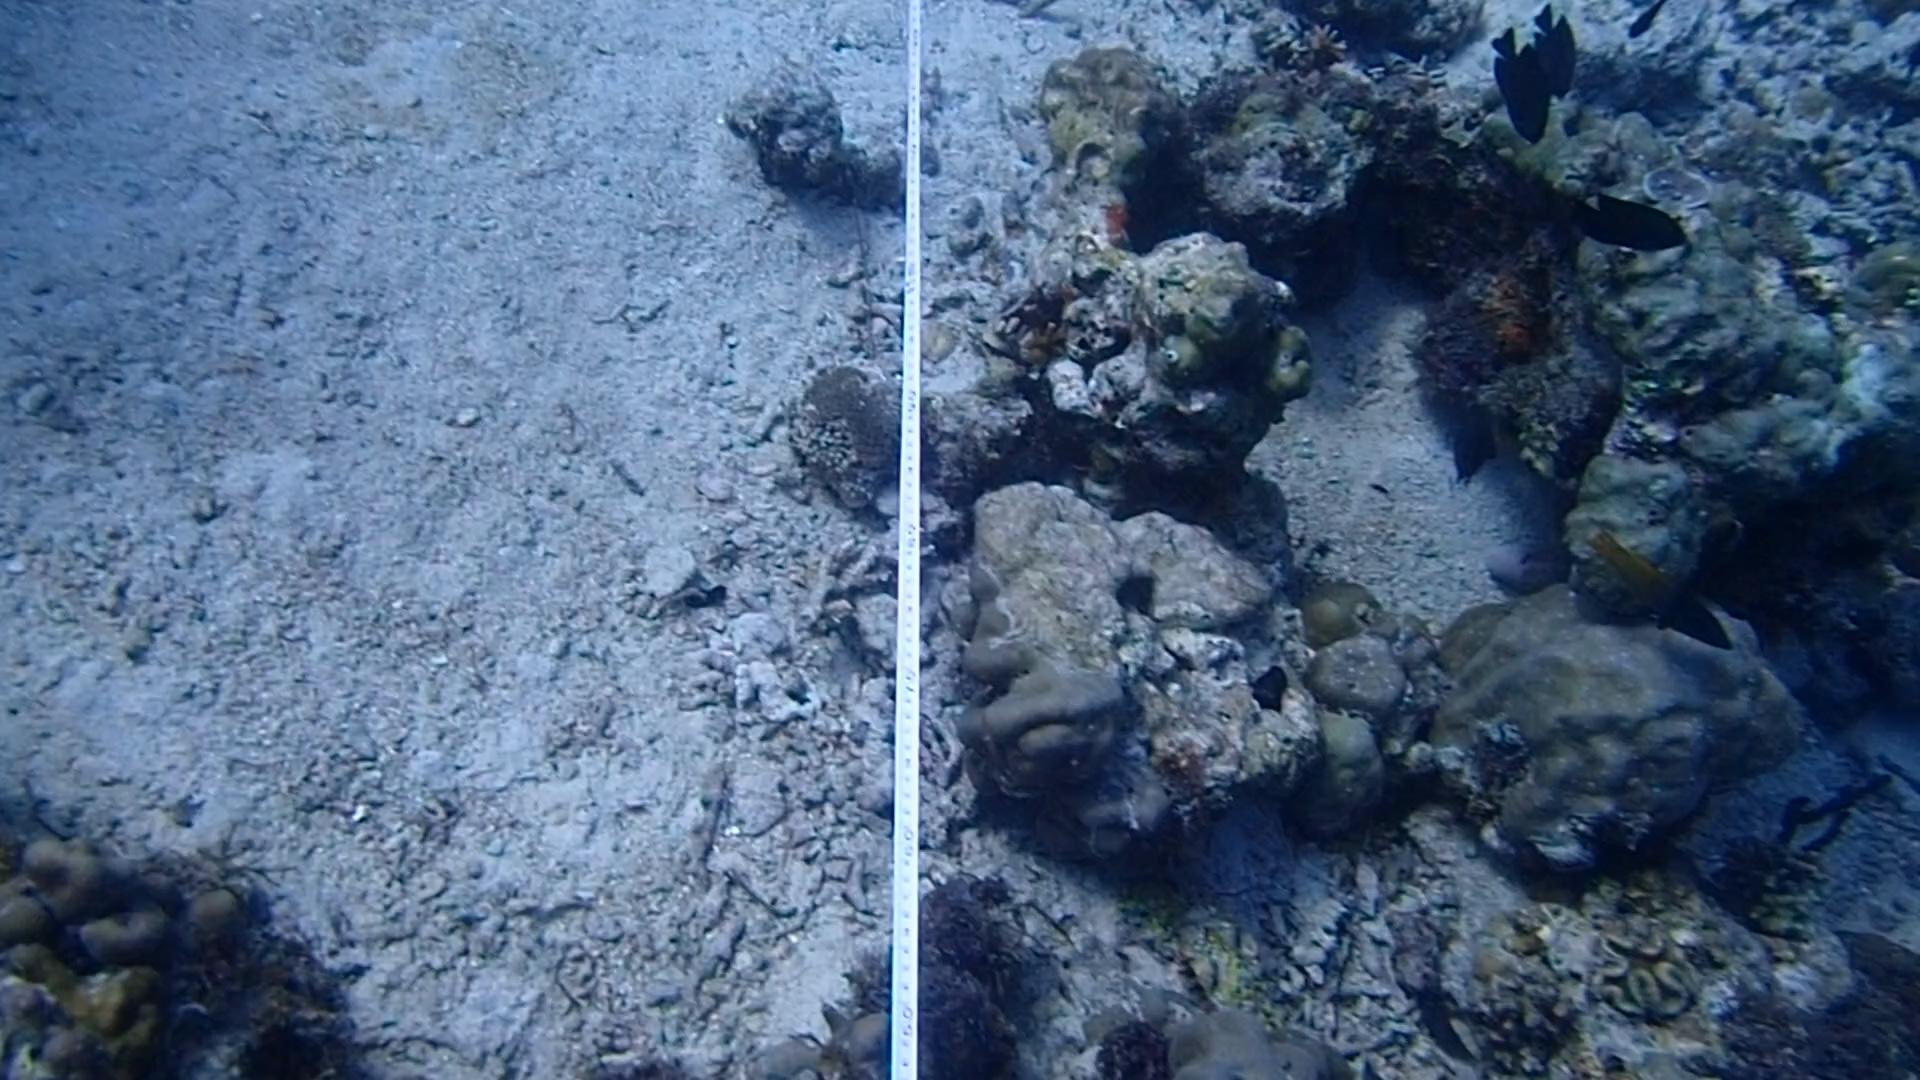Dark Fish: (1478, 18, 1564, 150), (1549, 175, 1687, 256), (1424, 400, 1509, 491), (1518, 0, 1590, 103), (1618, 3, 1668, 46)
Half Blue - Half Yellow: (1576, 514, 1741, 653)
